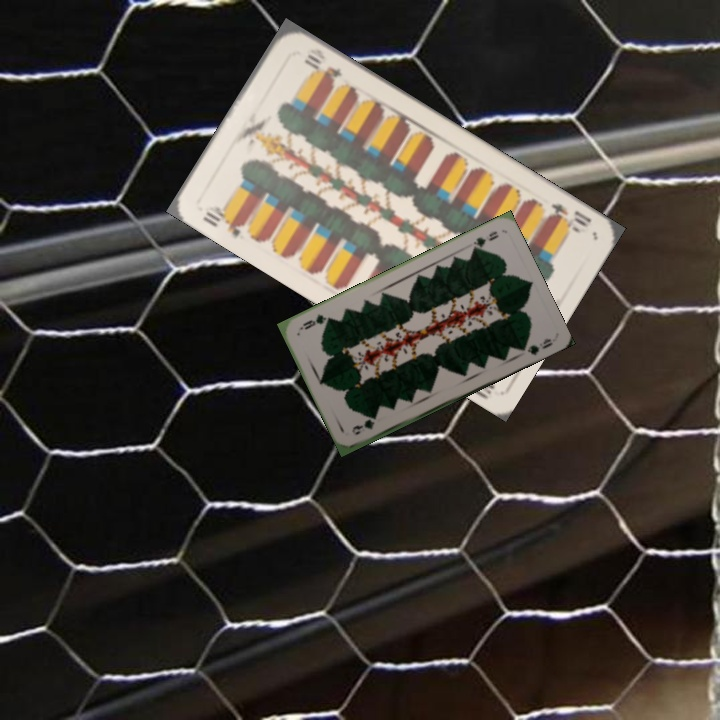E10: (198, 201, 248, 240), (544, 199, 594, 236)
G9: (468, 227, 502, 254), (347, 416, 377, 438)
